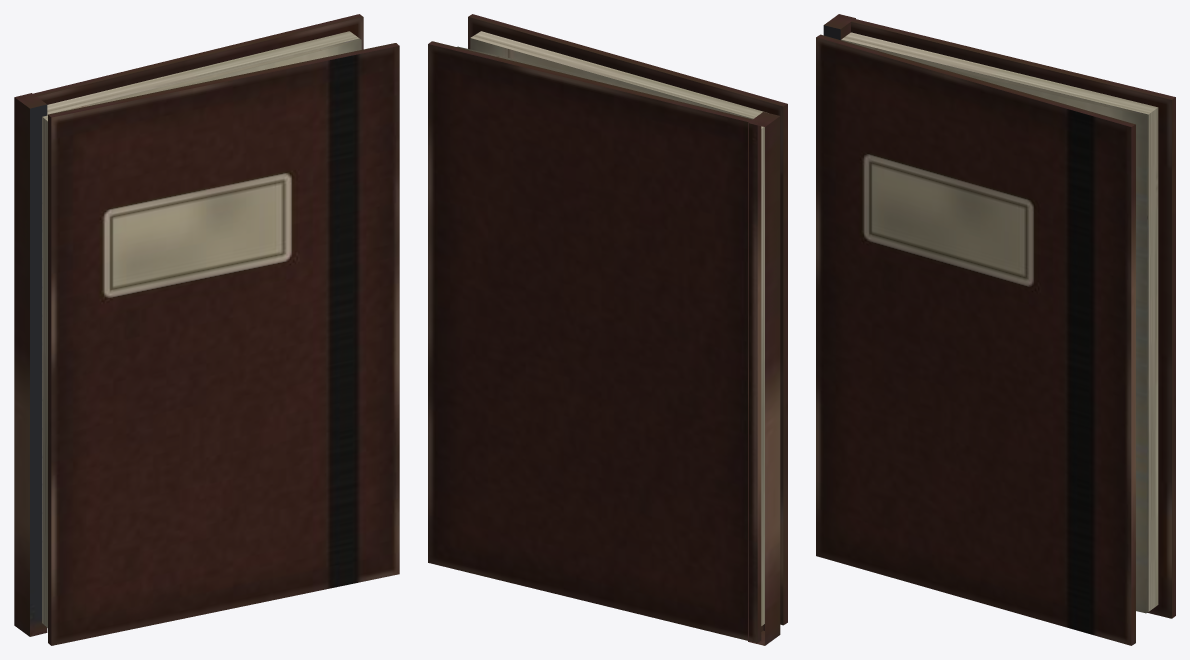
Rendered from caderno.glb.
The picture shows the model from 3 angles, left to right: view 1: azimuth 30°, elevation 25°; view 2: azimuth 150°, elevation 25°; view 3: azimuth 330°, elevation 25°; orthographic projection.
Parts seen in each view (by area): view 1: cover_l, cover, page_0, page_2; view 2: cover, cover_l, page_2; view 3: cover_l, cover, page_0, page_1, page_2.
Part boxes in pixels (<box>): cover_l: <box>42,43,399,645</box>; cover: <box>14,14,363,636</box>; page_0: <box>146,40,361,94</box>; page_2: <box>42,39,360,622</box>; cover: <box>428,41,780,645</box>; cover_l: <box>468,14,787,625</box>; page_2: <box>469,50,752,119</box>; cover_l: <box>816,34,1135,645</box>; cover: <box>823,14,1175,618</box>; page_0: <box>901,57,1146,613</box>; page_1: <box>875,50,1147,612</box>; page_2: <box>852,43,1147,612</box>.
Size of the model in its own units: 0.0995 by 0.146 by 0.0218.
Materials: 1 (1 with a texture image).
